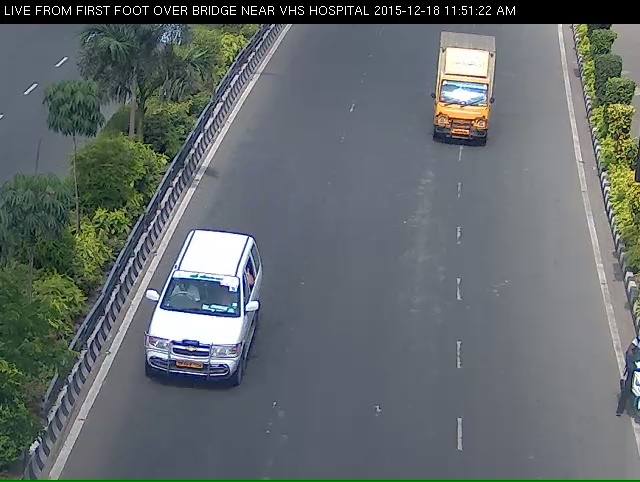Car: (137, 248, 262, 421), (424, 31, 507, 168)
